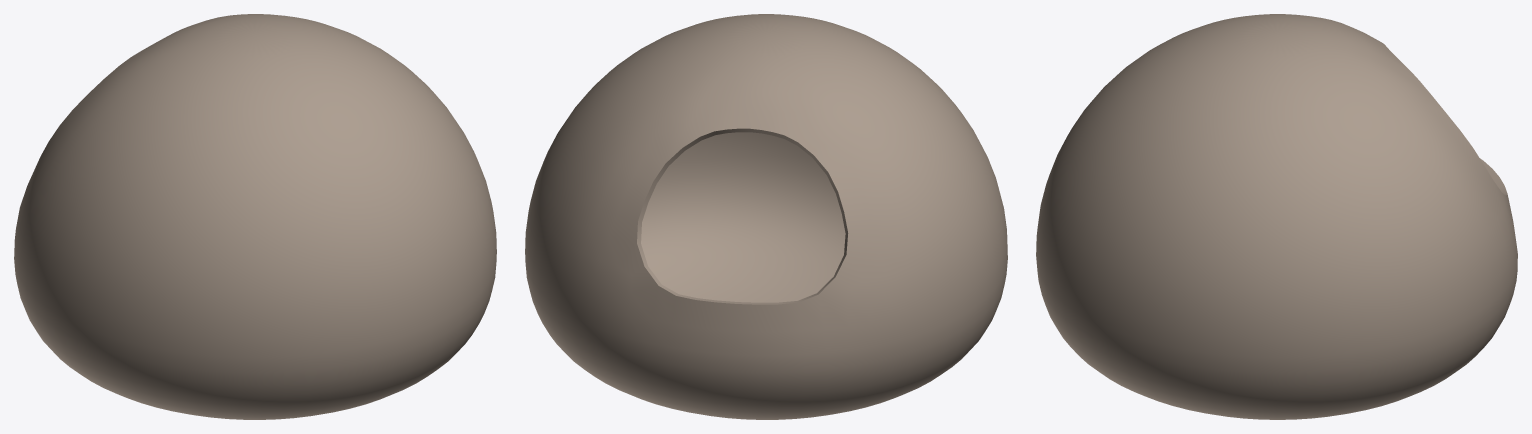
File: Creature Hut.fbx
3 renders of one model, left to right at view 1: azimuth 30°, elevation 25°; view 2: azimuth 150°, elevation 25°; view 3: azimuth 270°, elevation 25°, orthographic.
Visible parts, largest first — view 1: Sphere; view 2: Sphere; view 3: Sphere.
Boxes of the visible parts, x1,y1,x2,y2 form: Sphere: (14, 14, 496, 419); Sphere: (525, 14, 1007, 419); Sphere: (1036, 14, 1517, 419).
Bounding box in the file's own units: 1379 × 1065 × 1375.
